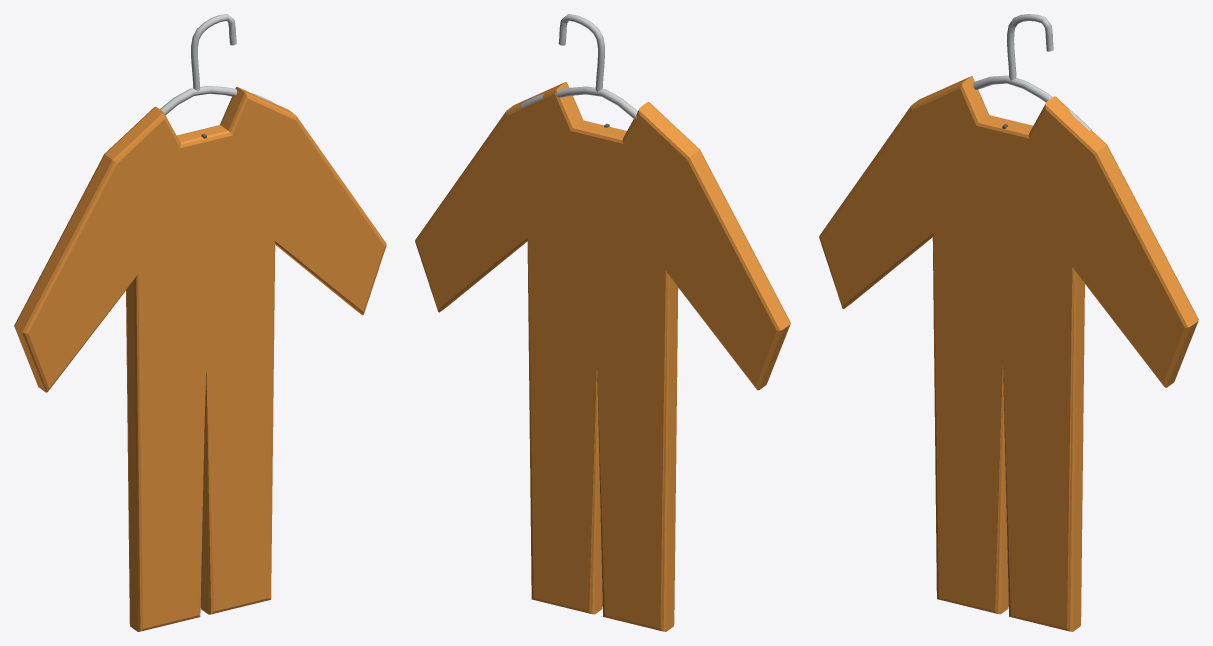
Rendered from prison-complex-builder-jumpsuit-on-hanger-880ec659__25717.glb.
3 views of the same model, side by side, from view 1: azimuth 30°, elevation 25°; view 2: azimuth 150°, elevation 25°; view 3: azimuth 330°, elevation 25° (orthographic).
Parts seen in each view (by area): view 1: jumpsuit-on-hanger; view 2: jumpsuit-on-hanger; view 3: jumpsuit-on-hanger.
Boxes of the visible parts, x1,y1,x2,y2 form: jumpsuit-on-hanger: [14, 14, 386, 631]; jumpsuit-on-hanger: [415, 14, 790, 631]; jumpsuit-on-hanger: [819, 14, 1198, 631].
Size of the model in its own units: 0.6955 by 1.07 by 0.039.
